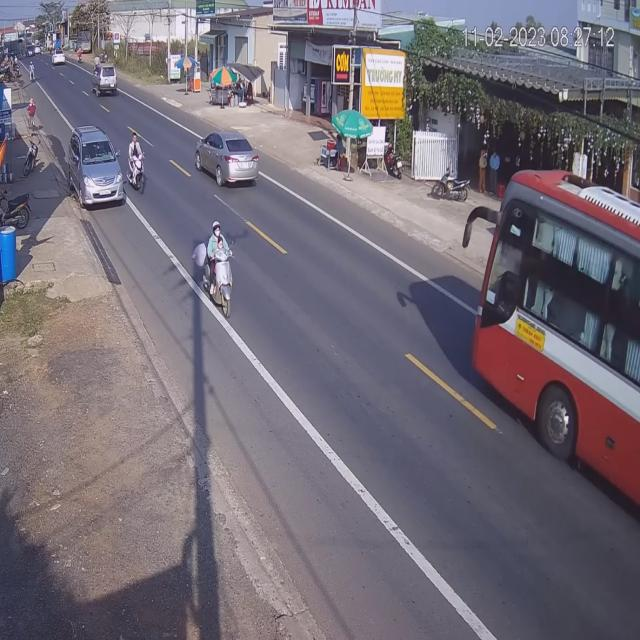bus: (472, 172, 636, 534)
car: (68, 125, 124, 207), (196, 130, 258, 188), (93, 62, 118, 96)
motorbike: (200, 221, 236, 321), (128, 131, 147, 196)
